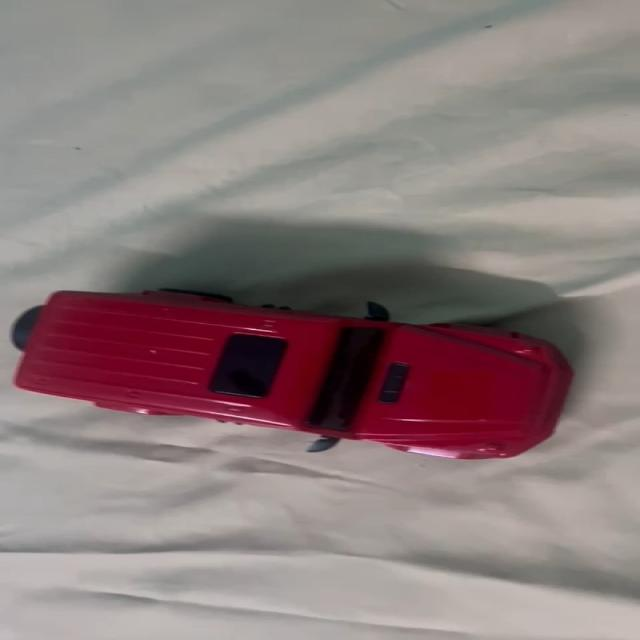light_vehicle: (0, 286, 583, 470)
